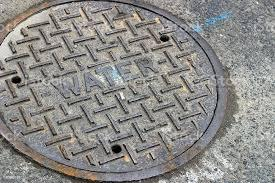closed manhole-not overflowing-: (0, 0, 242, 183)
